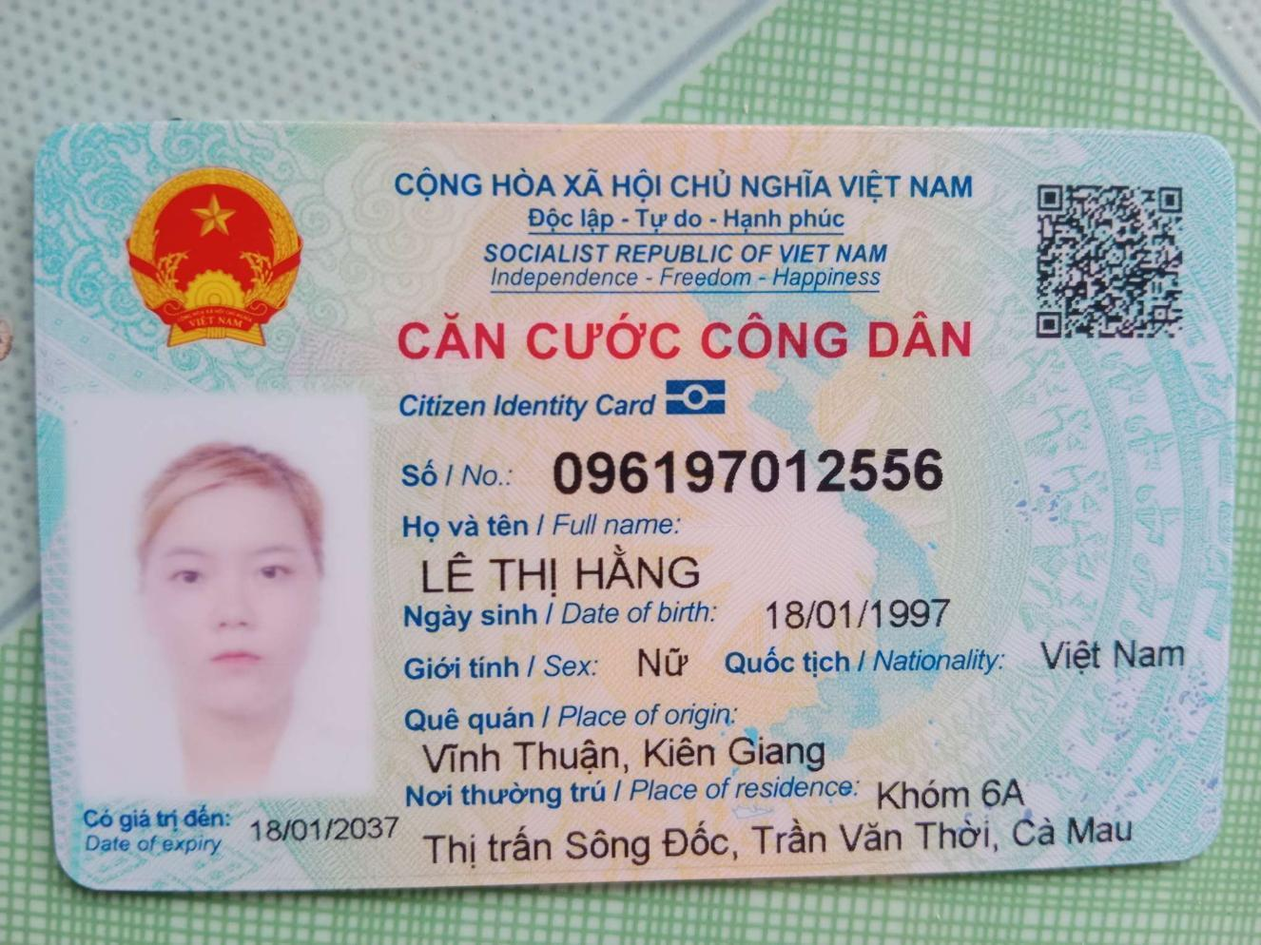ID: (549, 440, 957, 509)
birth: (749, 592, 972, 639)
name: (407, 544, 710, 601)
place: (401, 729, 844, 780)
residence: (415, 811, 1142, 875), (870, 768, 1039, 816)
